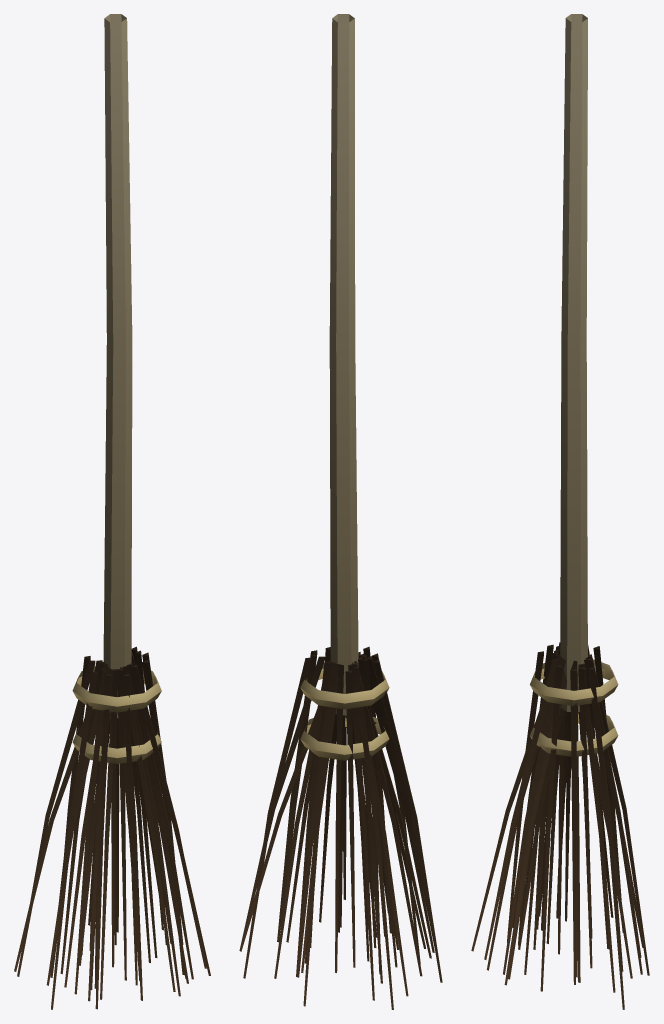
Rendered from besom.glb.
3 views of the same model, side by side, from view 1: azimuth 30°, elevation 25°; view 2: azimuth 150°, elevation 25°; view 3: azimuth 270°, elevation 25° (orthographic).
Visible parts, largest first — view 1: besom_trim; view 2: besom_trim; view 3: besom_trim.
Part boxes in pixels (x1,y1,x2,y2): besom_trim: [14, 14, 210, 1009]; besom_trim: [239, 14, 442, 1009]; besom_trim: [471, 14, 649, 1009].
Size of the model in its own units: 0.2739 by 1.5 by 0.2534.
